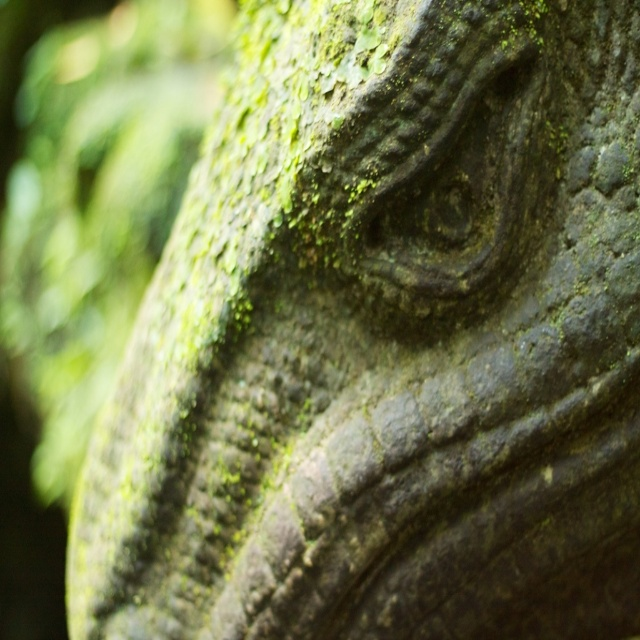Lizard: (68, 0, 640, 639)
